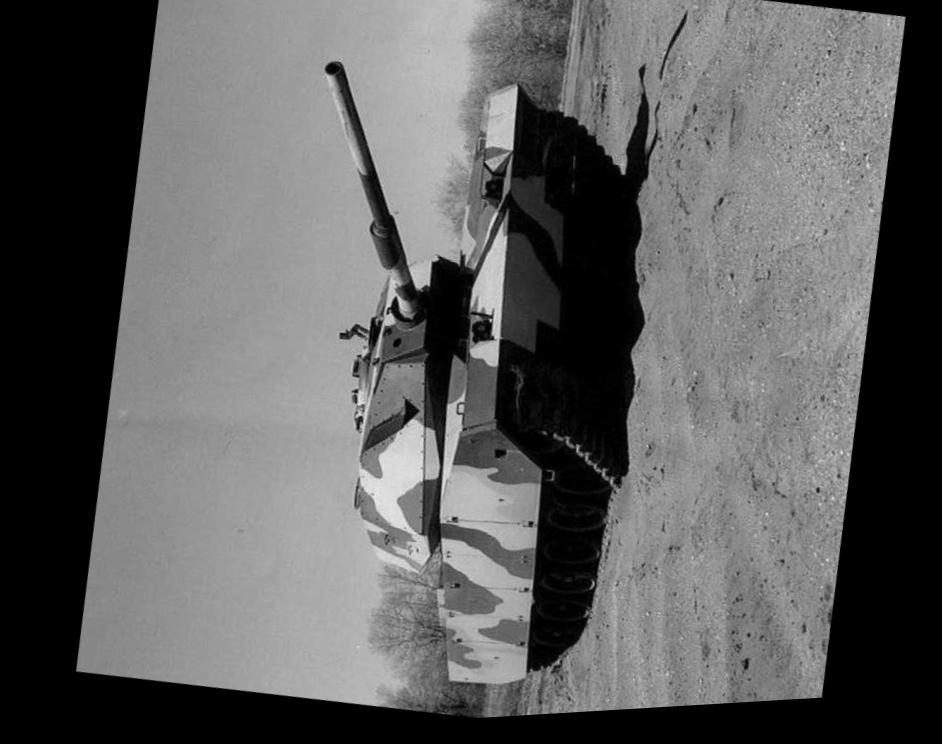tank: (220, 37, 706, 721)
